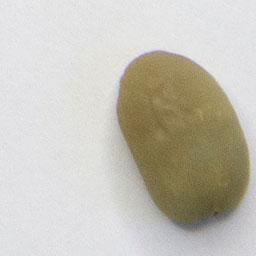premium: (113, 45, 253, 227)
